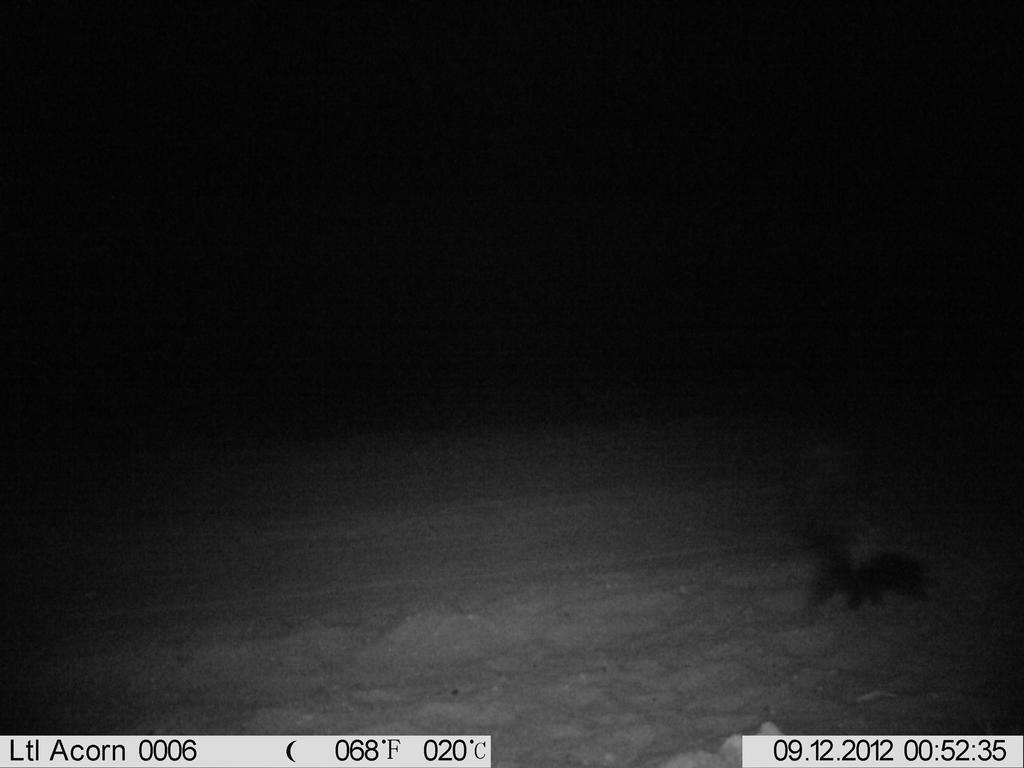skunk: (789, 491, 945, 642)
